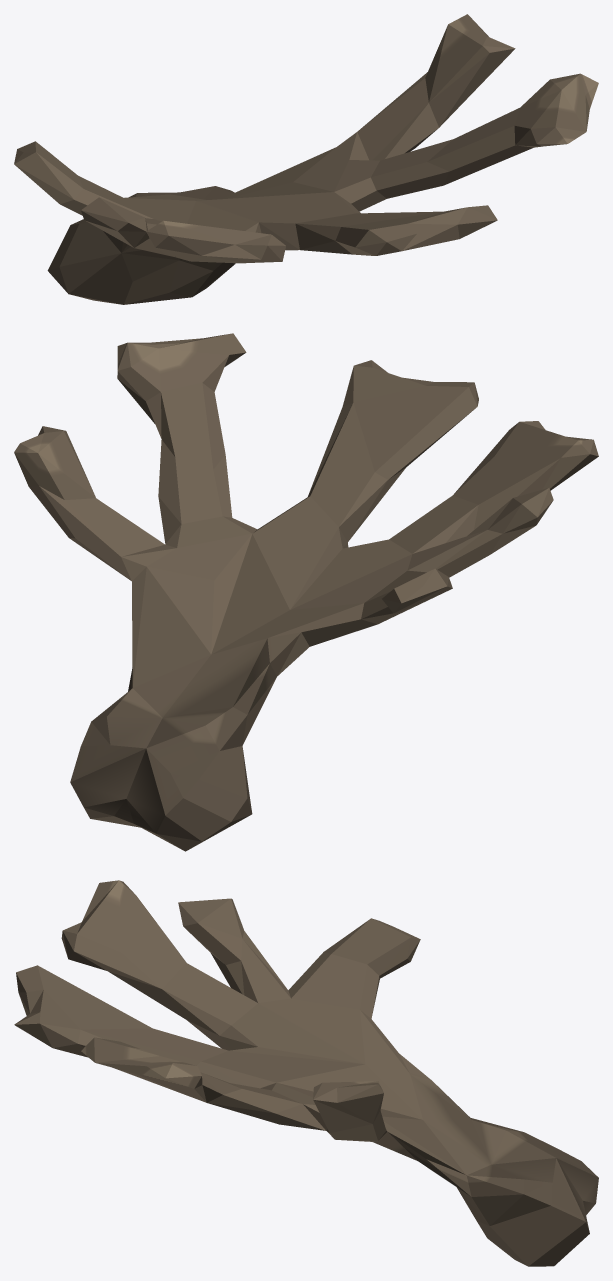
Rendered from SM_Env_Coral_02.fbx.
3 views of the same model, one above another, from view 1: azimuth 30°, elevation 25°; view 2: azimuth 150°, elevation 25°; view 3: azimuth 270°, elevation 25° (orthographic). The views are drawn at different scales.
Visible parts, largest first — view 1: SM_Env_Coral_02; view 2: SM_Env_Coral_02; view 3: SM_Env_Coral_02.
Boxes of the visible parts, x1,y1,x2,y2 form: SM_Env_Coral_02: [14, 14, 598, 304]; SM_Env_Coral_02: [14, 333, 598, 851]; SM_Env_Coral_02: [14, 880, 598, 1266].
Bounding box in the file's own units: 192 × 120 × 223.
